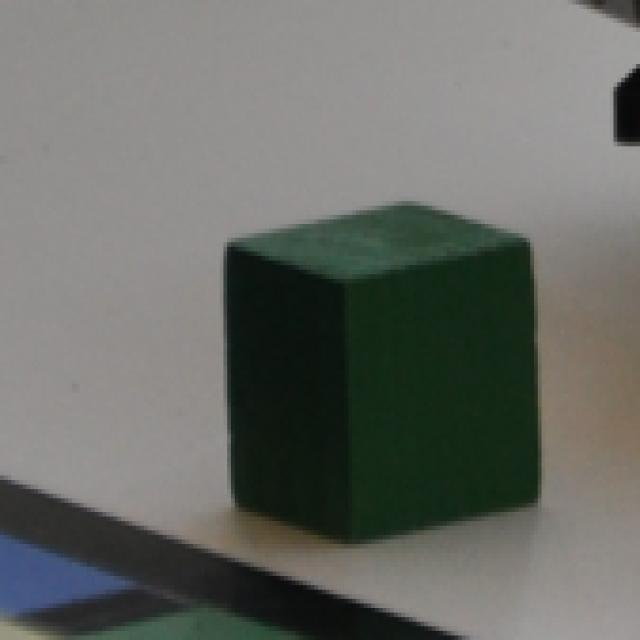green cube: (228, 199, 544, 553)
